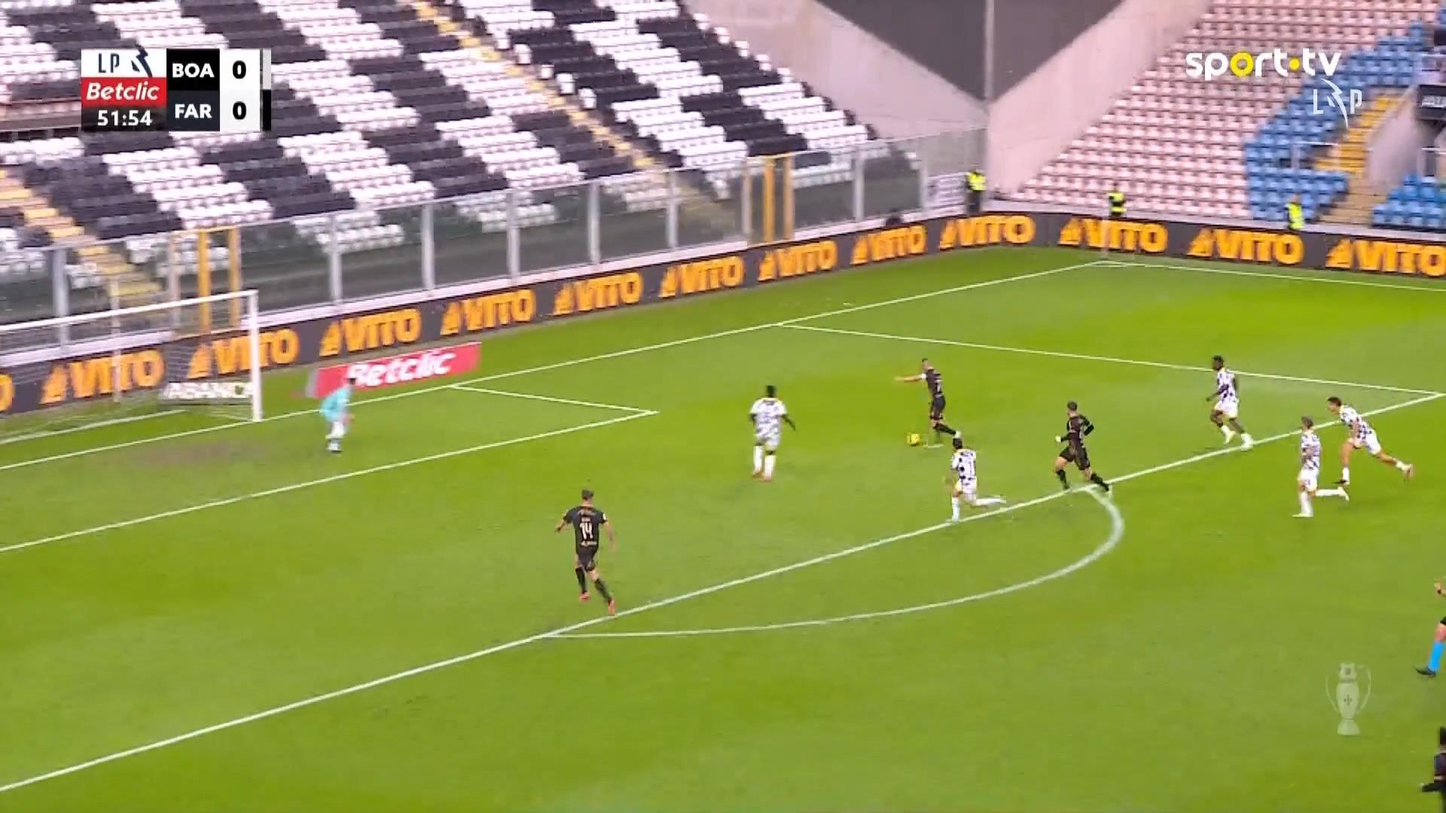ball: (906, 431, 919, 445)
goalkeeper: (318, 374, 358, 453)
player: (1326, 394, 1414, 500), (553, 487, 617, 616), (893, 357, 961, 448), (1052, 399, 1112, 495), (1204, 354, 1254, 451), (747, 383, 795, 481), (1292, 415, 1322, 517)
referee: (1414, 578, 1445, 676)
